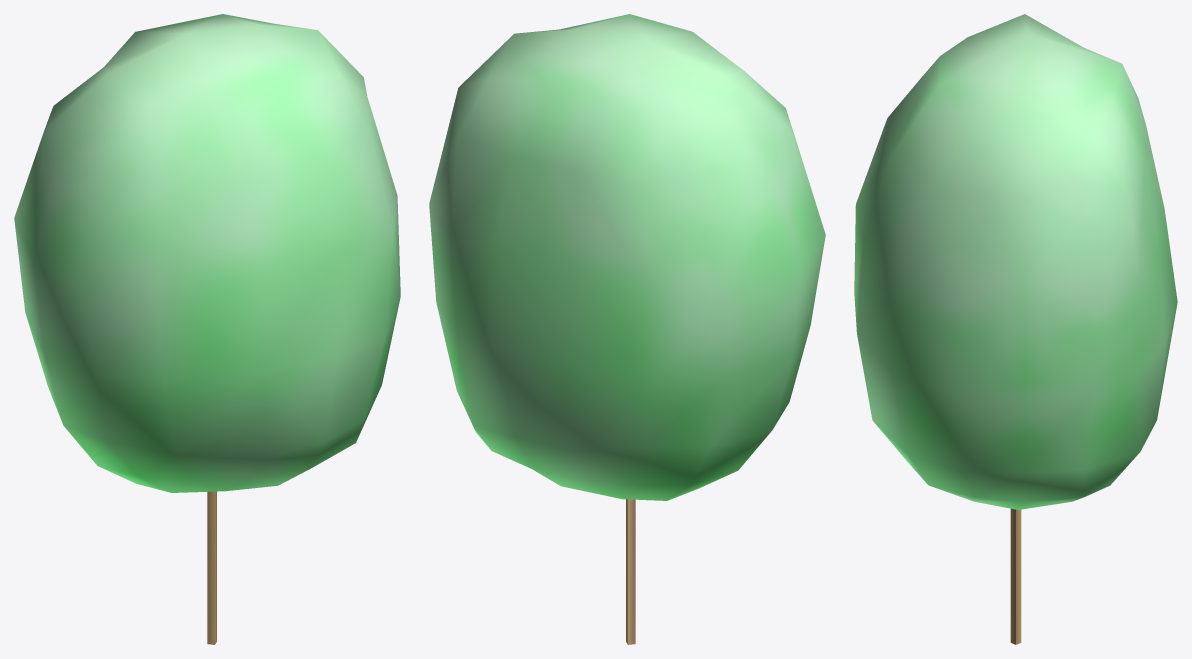
Rendered from jsf_CottonCandy_04L.fbx.
The picture shows the model from 3 angles, left to right: view 1: azimuth 30°, elevation 25°; view 2: azimuth 150°, elevation 25°; view 3: azimuth 270°, elevation 25°; orthographic projection. The views are drawn at different scales.
Parts seen in each view (by area): view 1: jsf_CottonCandy_04L; view 2: jsf_CottonCandy_04L; view 3: jsf_CottonCandy_04L.
Boxes of the visible parts, left/top/right/bottom form: jsf_CottonCandy_04L: left=14, top=14, right=400, bottom=644; jsf_CottonCandy_04L: left=429, top=14, right=825, bottom=644; jsf_CottonCandy_04L: left=854, top=14, right=1177, bottom=644.
Size of the model in its own units: 25.91 by 43.4 by 21.21.
